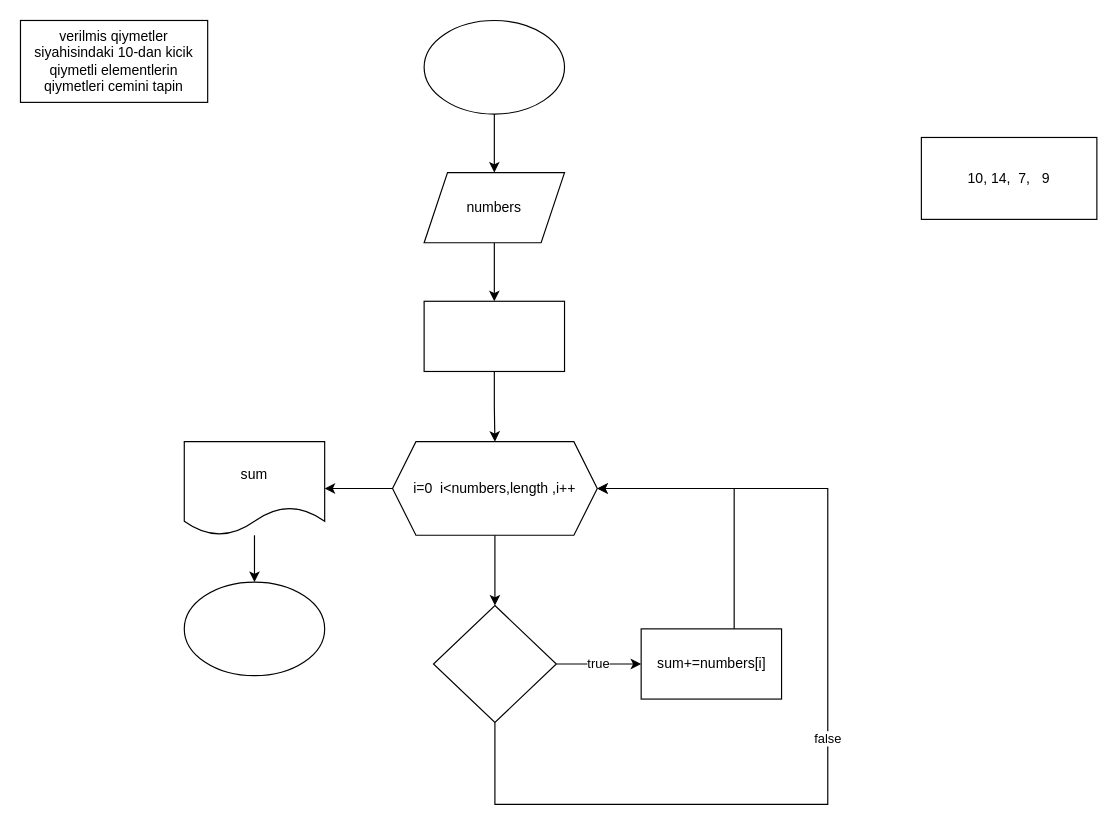
Image size: 1117x834. Some labels were removed from this diagram. Here are the shapes that lost their labels. From the top down, the centre of each, then its label:
At [494,66]: "start".
At [494,335]: "sum=0".
At [494,663]: "numbers[i]<10".
